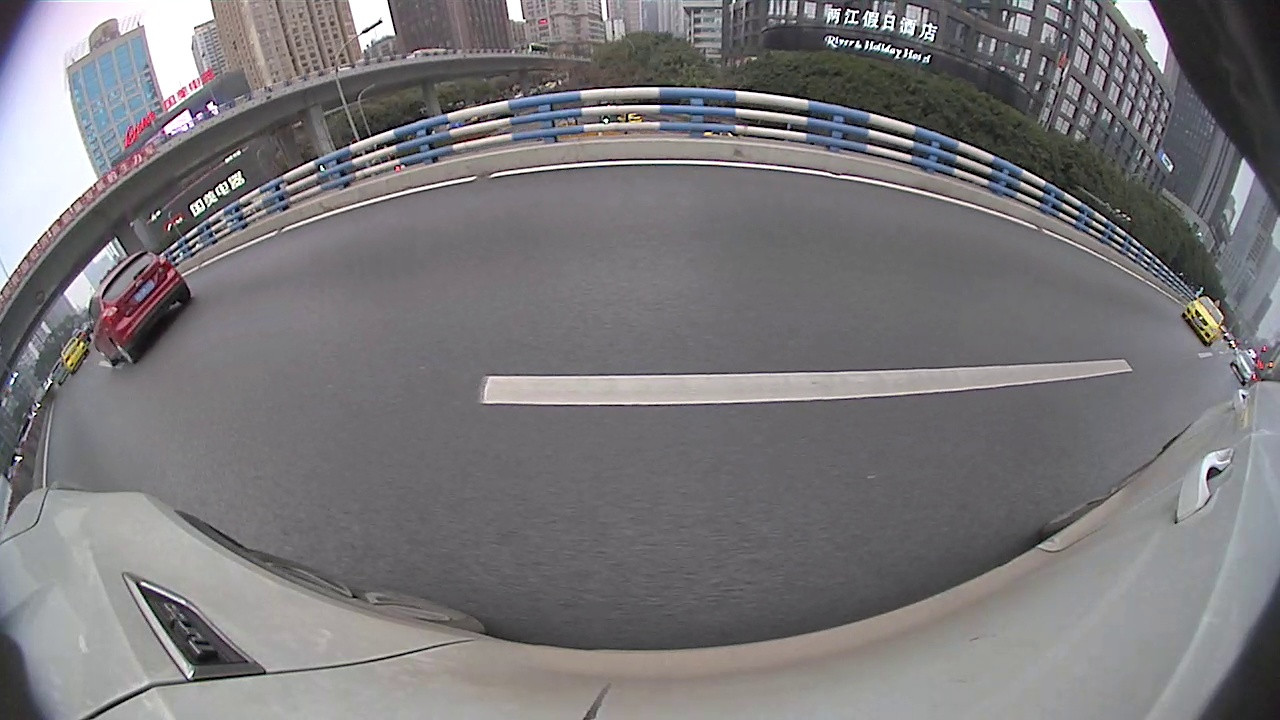car: (88, 249, 191, 368), (1183, 292, 1225, 348), (61, 334, 91, 375)
rear: (110, 339, 136, 361)
